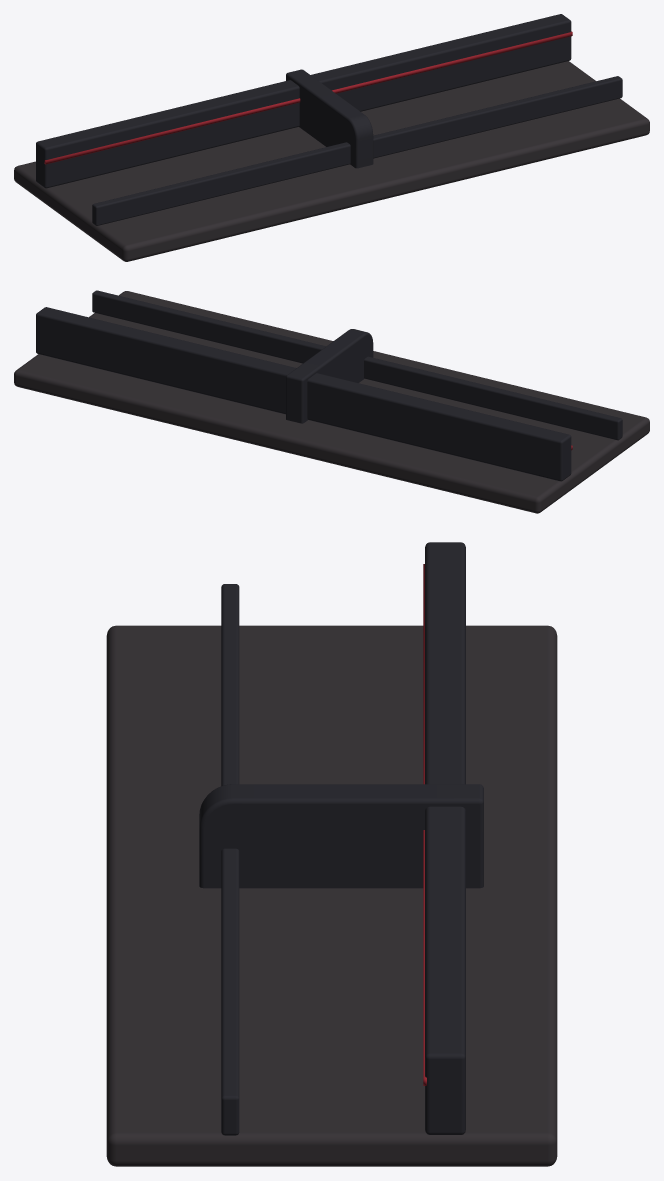
File: piano-kit.glb
3 views of the same model, one above another, from view 1: azimuth 30°, elevation 25°; view 2: azimuth 150°, elevation 25°; view 3: azimuth 270°, elevation 25° (orthographic). The views are drawn at different scales.
Visible parts, largest first — view 1: table, board, slip, cheek, felt; view 2: table, board, slip, cheek; view 3: table, cheek, board, slip, felt.
Part boxes in pixels (<box>): table: <box>14,61,649,261</box>; board: <box>36,14,571,188</box>; slip: <box>92,76,622,225</box>; cheek: <box>286,69,373,168</box>; felt: <box>44,31,572,164</box>; table: <box>14,291,649,513</box>; board: <box>36,307,571,481</box>; slip: <box>92,290,622,440</box>; cheek: <box>286,329,373,423</box>; table: <box>106,625,557,1166</box>; cheek: <box>199,784,483,888</box>; board: <box>425,542,465,1134</box>; slip: <box>221,584,239,1135</box>; felt: <box>423,564,426,1085</box>.
Size of the model in its own units: 1 by 0.11 by 0.37.
